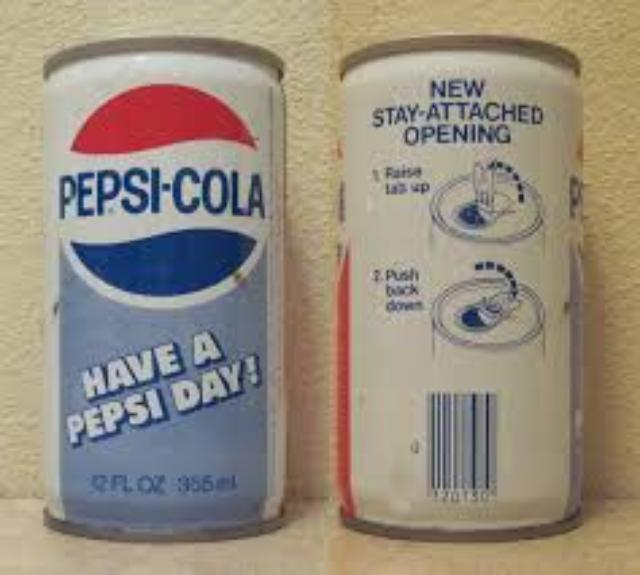metal: (335, 35, 578, 535), (41, 38, 281, 535)
